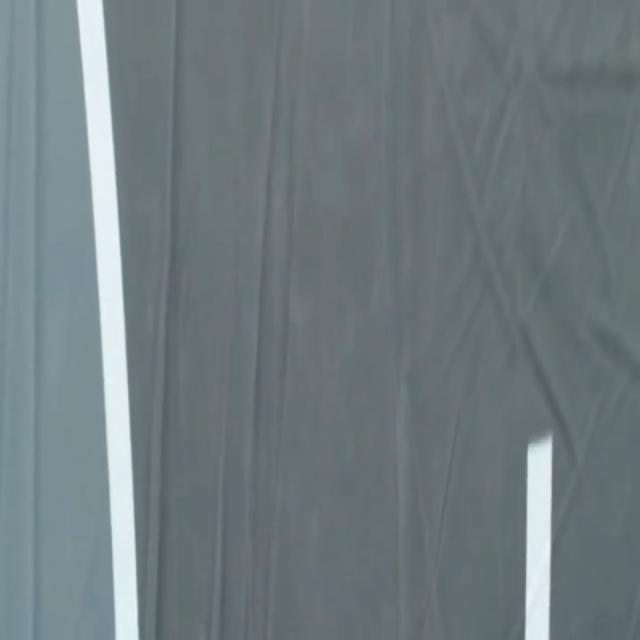center: (524, 433, 551, 639)
left: (76, 0, 138, 639)
